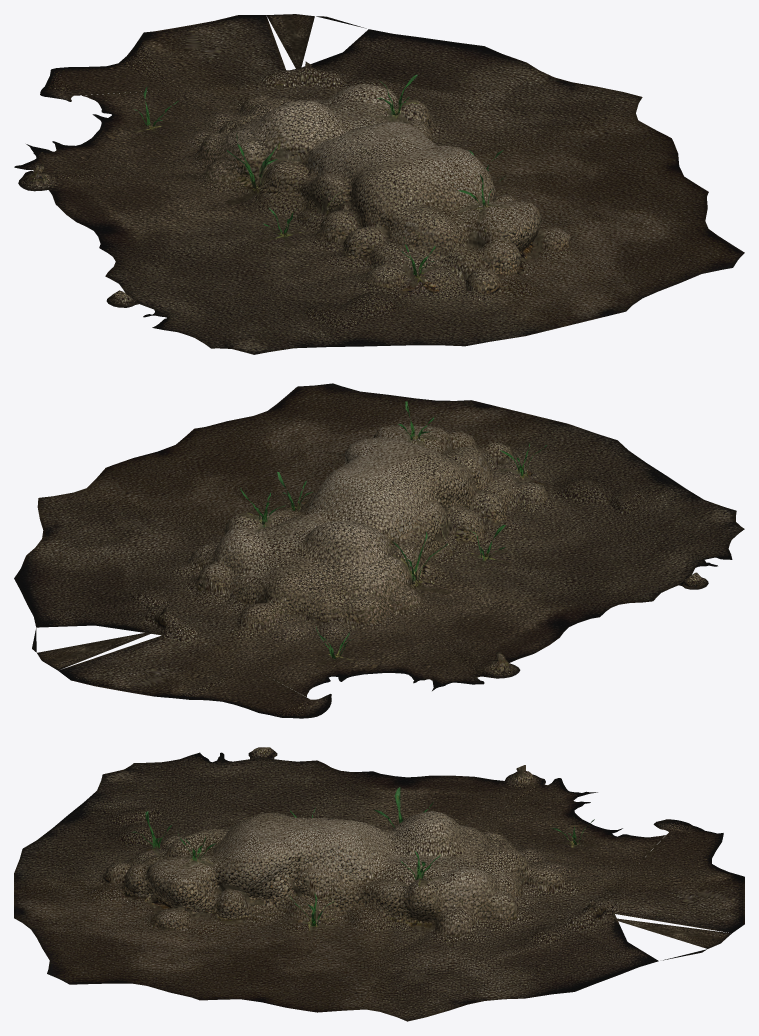
Rendered from rocky+ground+3d+model.fbx.
3 views of the same model, one above another, from view 1: azimuth 30°, elevation 25°; view 2: azimuth 150°, elevation 25°; view 3: azimuth 270°, elevation 25° (orthographic). The views are drawn at different scales.
Visible parts, largest first — view 1: meshes[0]; view 2: meshes[0]; view 3: meshes[0].
Part boxes in pixels (<box>): meshes[0]: <box>14,14,744,354</box>; meshes[0]: <box>14,383,744,718</box>; meshes[0]: <box>14,747,744,1021</box>.
Bounding box in the file's own units: 0.8809 × 0.1074 × 0.998.
1 material, 1 textured.
